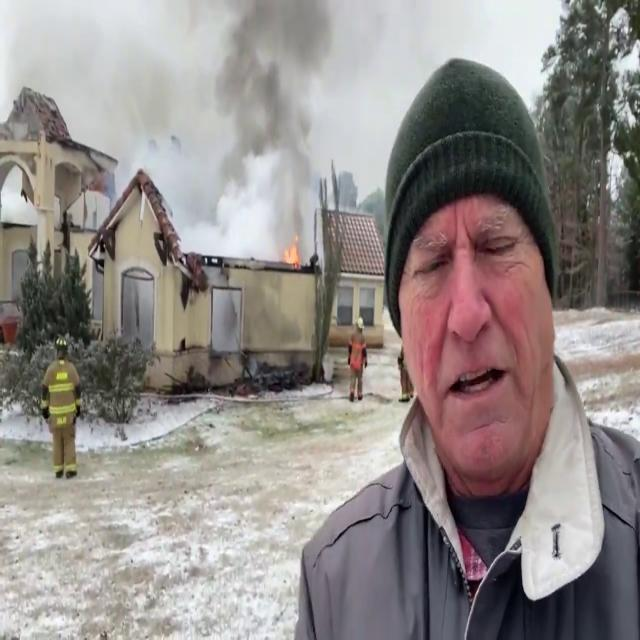Fire: (282, 232, 302, 272)
Smoke: (94, 0, 364, 248)
